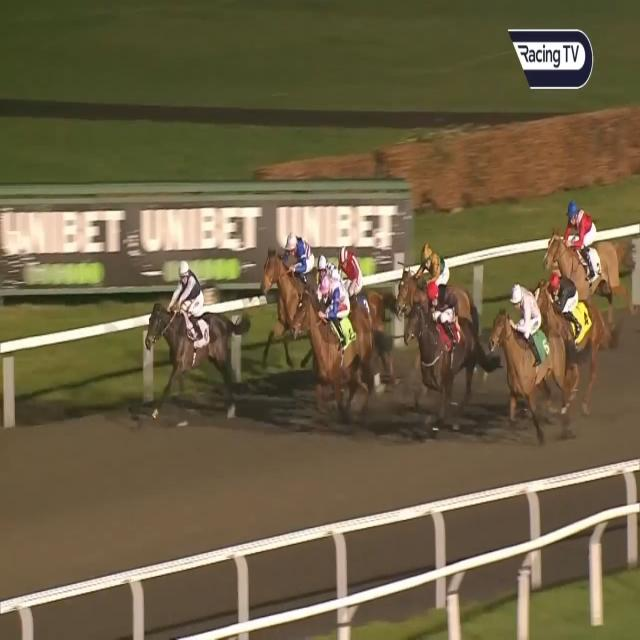horses-racing: (398, 278, 496, 431), (144, 257, 233, 424), (488, 282, 576, 425), (546, 201, 632, 315), (291, 276, 361, 407), (257, 238, 326, 348), (392, 245, 477, 327), (538, 267, 604, 372), (330, 242, 382, 325), (309, 253, 342, 288)
